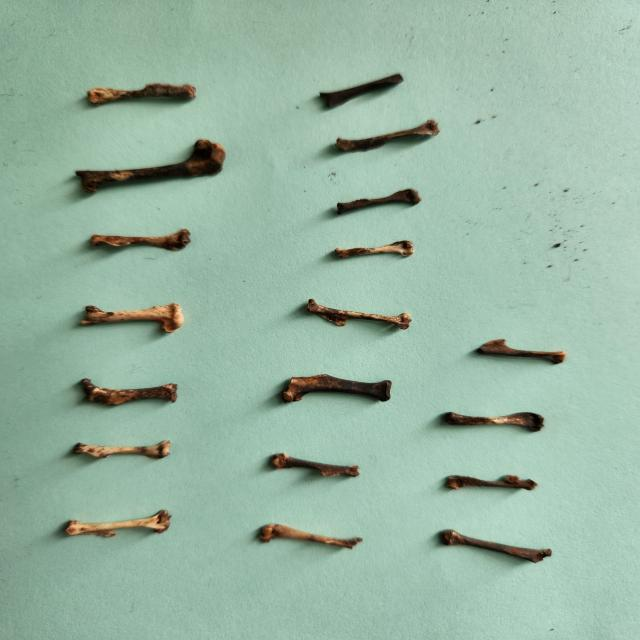fossil: (68, 134, 236, 207), (274, 367, 400, 409), (432, 524, 554, 566), (329, 117, 452, 157), (70, 298, 192, 338), (300, 295, 418, 336), (58, 508, 185, 545), (310, 69, 414, 114), (68, 373, 185, 411), (77, 80, 215, 112), (254, 521, 369, 556), (80, 225, 200, 256), (471, 334, 572, 369), (67, 437, 180, 468), (437, 406, 549, 436), (265, 450, 369, 482), (440, 468, 549, 497), (326, 235, 421, 267), (330, 185, 426, 216)
